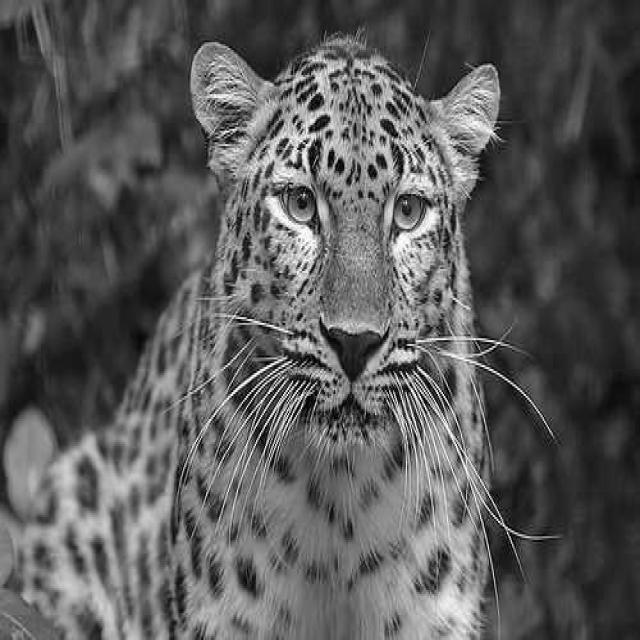Leopard: (80, 41, 499, 617)
